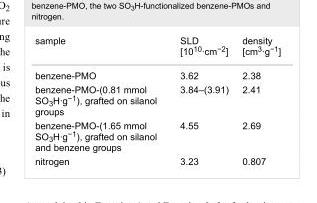table: (34, 34, 280, 166)
table column: (34, 34, 167, 166), (167, 34, 234, 166), (234, 34, 280, 166)
table row: (34, 117, 280, 153), (34, 82, 280, 117), (34, 34, 280, 62), (34, 62, 280, 82), (34, 153, 280, 166)
